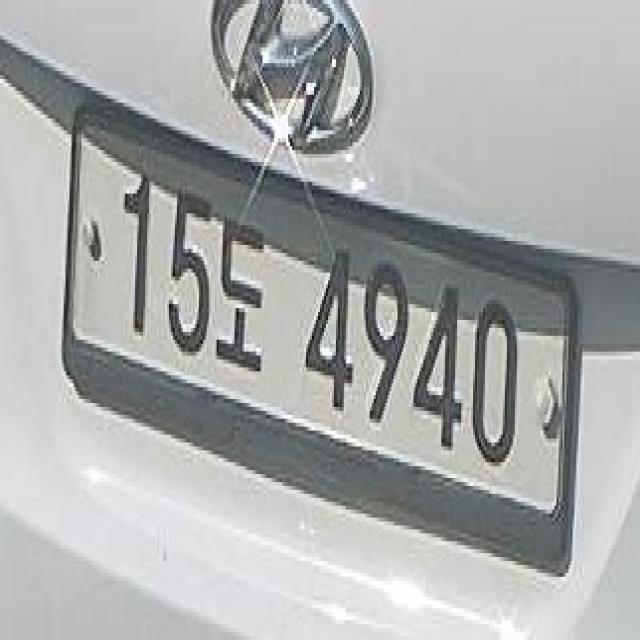0: (469, 285, 523, 474)
1: (117, 158, 161, 360)
4: (413, 257, 467, 466), (300, 233, 358, 423)
5: (165, 170, 215, 371)
9: (358, 237, 411, 443)
do: (215, 194, 270, 387)
license_plate: (56, 95, 582, 585)
